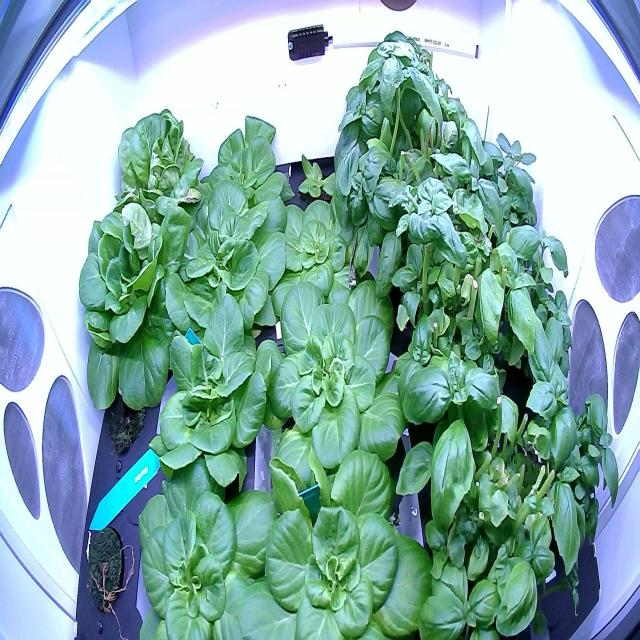Ready: (67, 195, 196, 423), (104, 99, 208, 241)
pod: (75, 517, 132, 619), (100, 370, 156, 462)
young: (255, 264, 432, 501), (259, 443, 440, 640), (125, 448, 283, 640), (140, 290, 287, 495), (161, 172, 296, 340), (253, 190, 377, 324), (188, 100, 294, 238), (287, 144, 345, 214)
